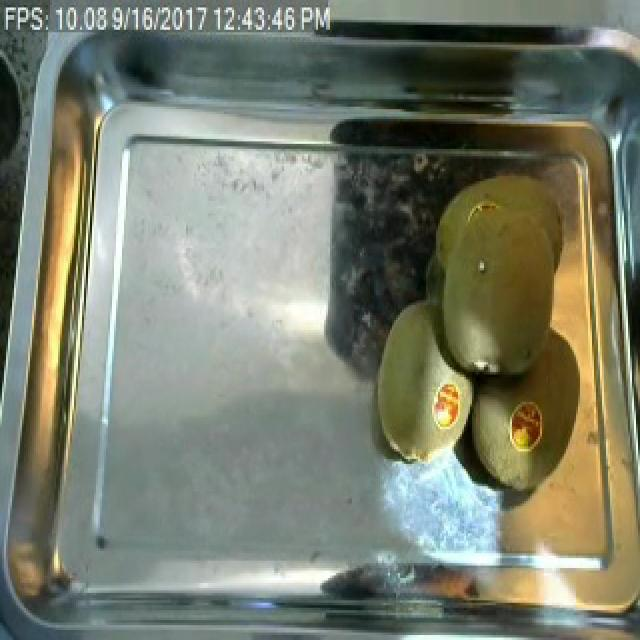Fruit: (410, 151, 612, 407), (362, 288, 486, 476)
